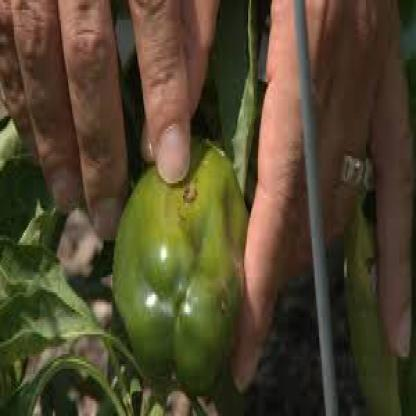capsicum_rotten: (97, 107, 268, 382)
